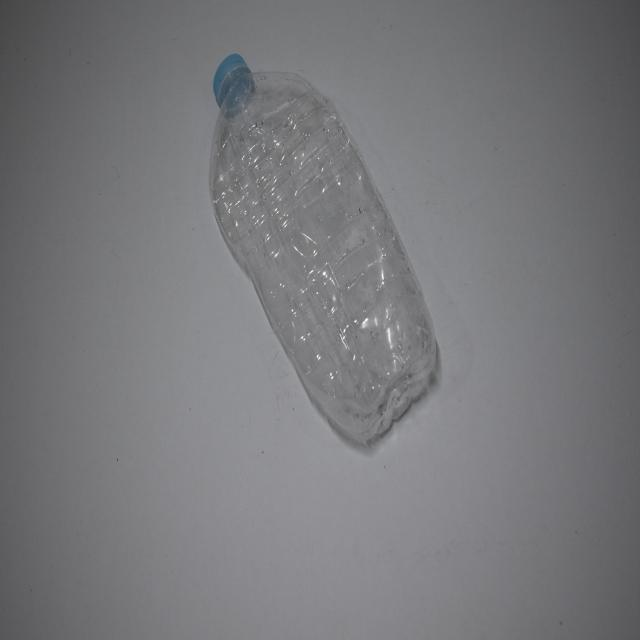plastic: (203, 49, 442, 454)
